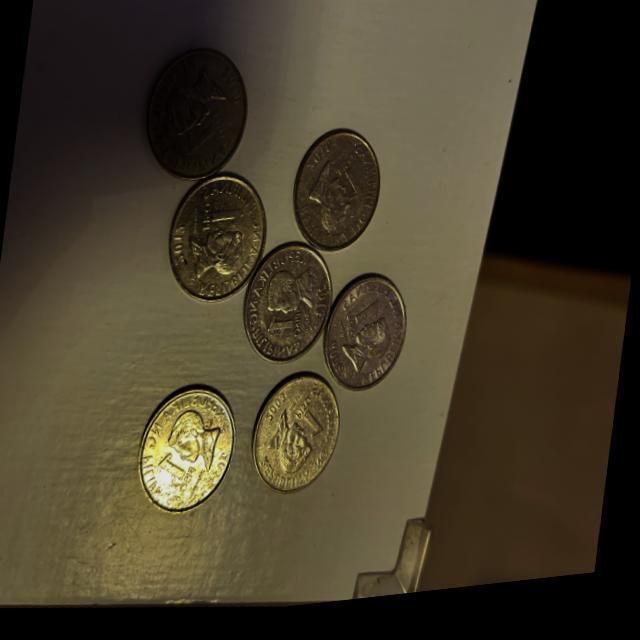1_Old_Front: (148, 439, 200, 507), (186, 198, 248, 251), (319, 153, 372, 214), (179, 110, 235, 166), (285, 399, 335, 453), (259, 303, 308, 353), (336, 305, 387, 350)
